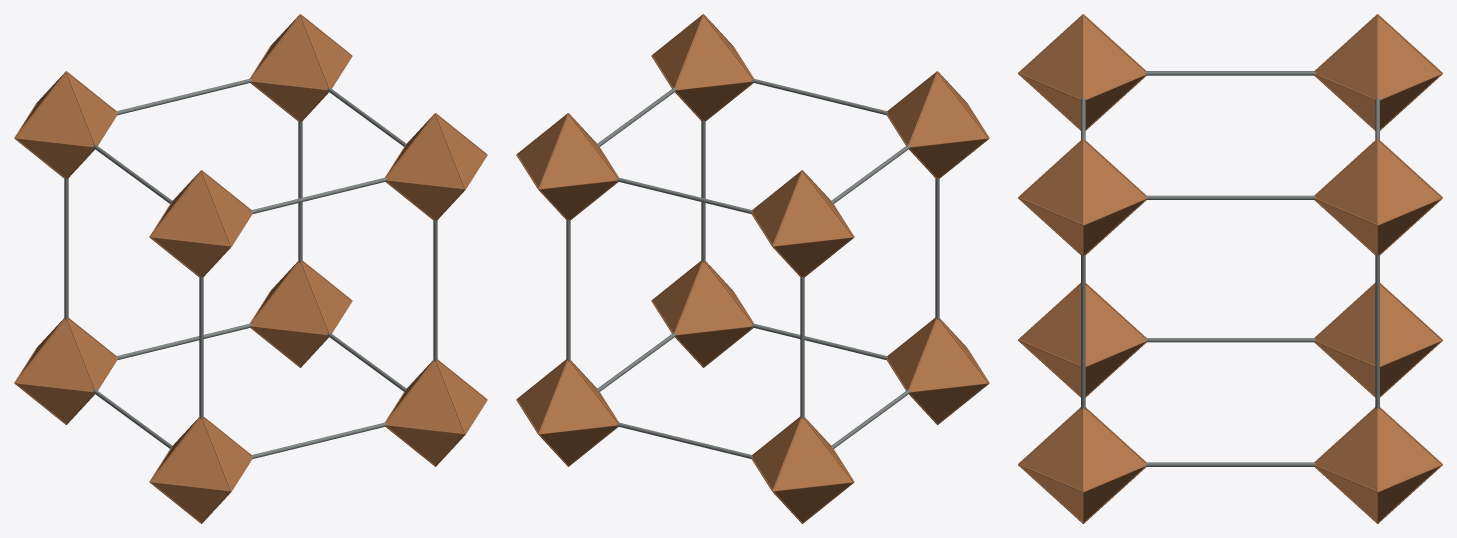
The model's file is mof5-nodes.glb.
3 views of the same model, side by side, from view 1: azimuth 30°, elevation 25°; view 2: azimuth 150°, elevation 25°; view 3: azimuth 270°, elevation 25° (orthographic). The views are drawn at different scales.
Visible parts, largest first — view 1: topology_nodes/52, topology_nodes/0, topology_nodes/26, topology_nodes/39, topology_nodes/91, topology_nodes/13, topology_nodes/65, topology_nodes/78, topology_edges/104, topology_edges/112, topology_edges/115, topology_edges/107 (+4 smaller); view 2: topology_nodes/39, topology_nodes/65, topology_nodes/78, topology_nodes/52, topology_nodes/13, topology_nodes/91, topology_nodes/0, topology_nodes/26, topology_edges/107, topology_edges/115, topology_edges/104, topology_edges/112 (+4 smaller); view 3: topology_nodes/13, topology_nodes/26, topology_nodes/65, topology_nodes/91, topology_nodes/39, topology_nodes/52, topology_nodes/0, topology_nodes/78, topology_edges/105, topology_edges/113, topology_edges/109, topology_edges/111 (+2 smaller).
Part boxes in pixels (x1,y1,x2,y2): topology_nodes/52: (151,172,251,276); topology_nodes/0: (151,418,251,522); topology_nodes/26: (387,115,485,219); topology_nodes/39: (16,73,116,177); topology_nodes/91: (386,361,485,465); topology_nodes/13: (251,262,350,366); topology_nodes/65: (252,16,350,120); topology_nodes/78: (16,319,116,423); topology_edges/104: (199,276,203,418); topology_edges/112: (433,219,437,361); topology_edges/115: (64,177,68,319); topology_edges/107: (298,120,302,262); topology_nodes/39: (752,172,852,276); topology_nodes/65: (518,115,616,219); topology_nodes/78: (752,418,852,522); topology_nodes/52: (887,73,987,177); topology_nodes/13: (518,361,617,465); topology_nodes/91: (653,262,752,366); topology_nodes/0: (887,319,987,423); topology_nodes/26: (653,16,751,120); topology_edges/107: (566,219,570,361); topology_edges/115: (800,276,804,418); topology_edges/104: (935,177,939,319); topology_edges/112: (701,120,705,262); topology_nodes/13: (1316,409,1440,521); topology_nodes/26: (1020,141,1144,254); topology_nodes/65: (1316,141,1440,254); topology_nodes/91: (1020,409,1144,521); topology_nodes/39: (1316,16,1440,129); topology_nodes/52: (1020,16,1144,129); topology_nodes/0: (1020,285,1144,395); topology_nodes/78: (1316,285,1440,395); topology_edges/105: (1145,338,1315,342); topology_edges/113: (1145,71,1315,75); topology_edges/109: (1145,462,1315,466); topology_edges/111: (1145,195,1315,199).
Size of the model in its own units: 18.65 by 18.65 by 18.65.
